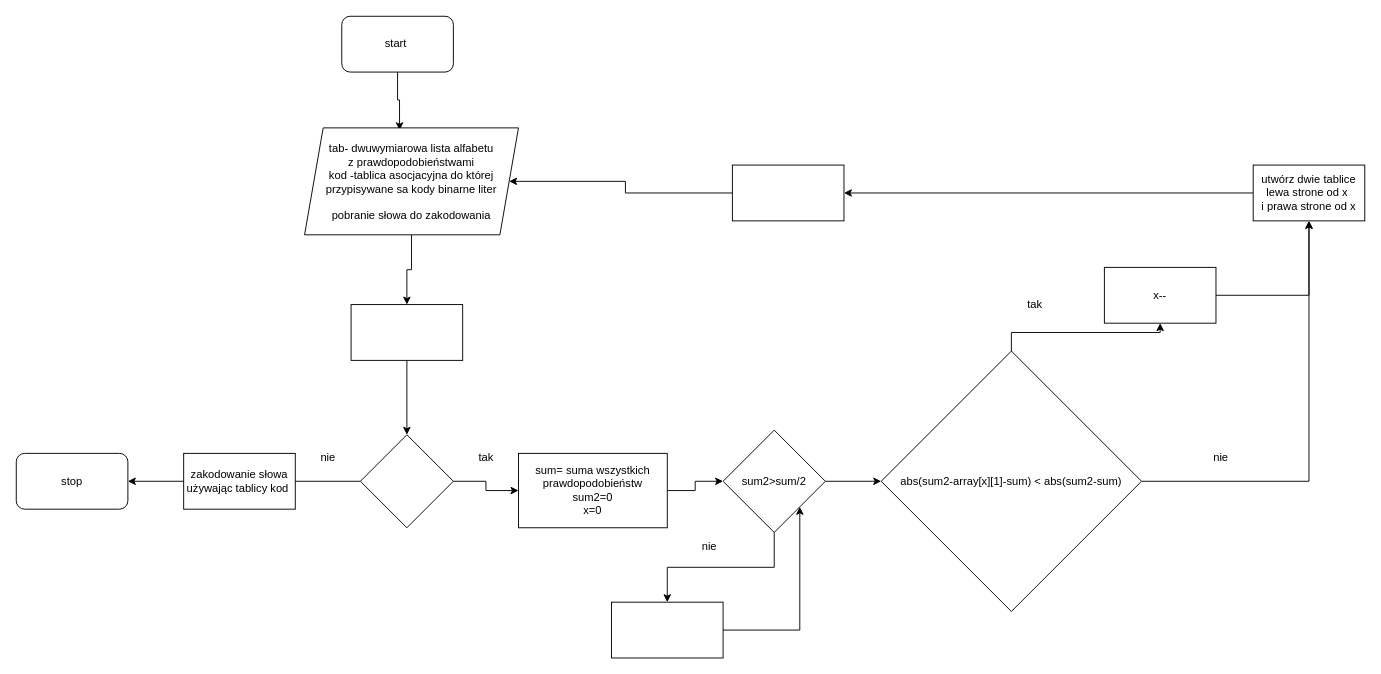
Some shapes in this 1381 by 674 pixel diagram are drawn without their labels. The centre of each missing label's shape, as x and y in pixels:
"len(tab)>1" goes at point 406,481.
"sortowanie listy tab" goes at point 406,332.
"sum2 += tab[x][1] x++" goes at point 667,629.
"wywołaj rekurencyjnie funkcje dla tych dwóch tablic" goes at point 787,192.
